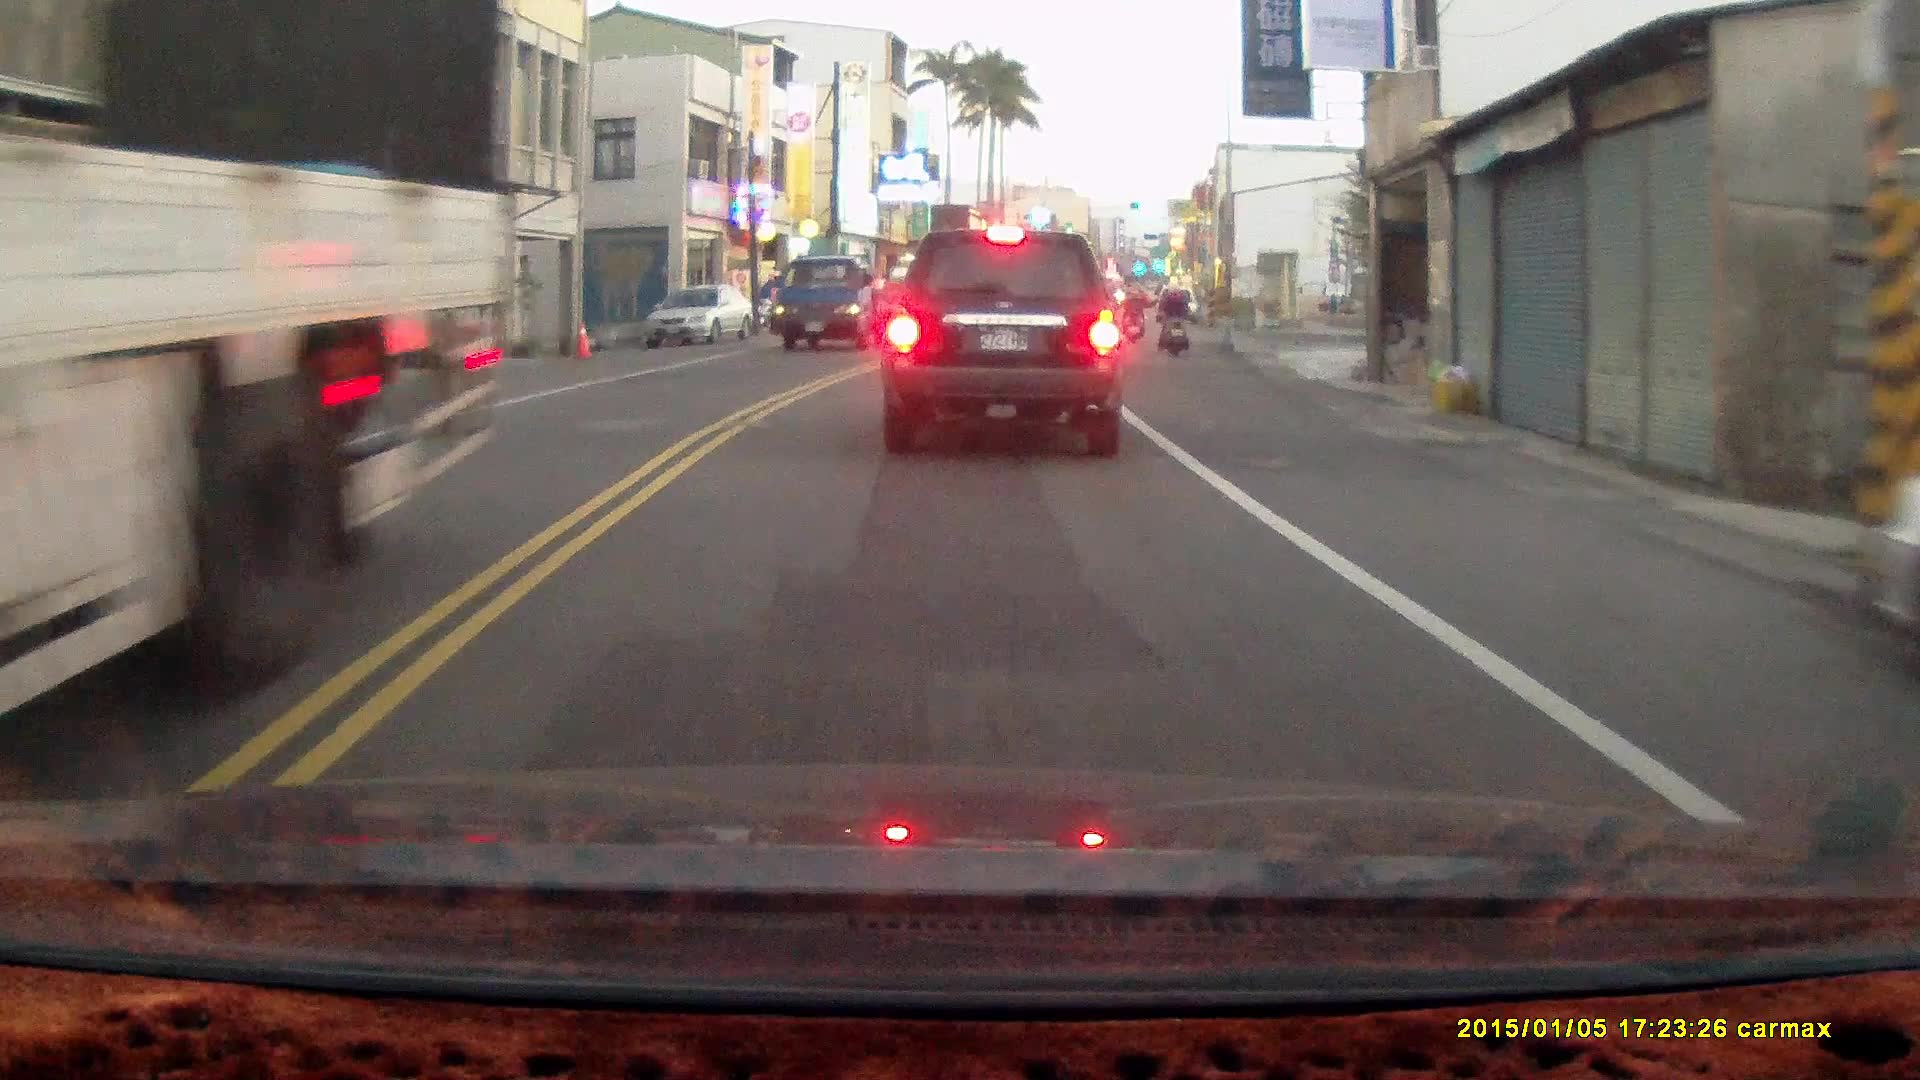rider: (1156, 278, 1187, 359), (1118, 280, 1145, 345)
vehicle: (0, 0, 522, 791), (880, 227, 1128, 459), (769, 256, 894, 357), (1851, 469, 1920, 640), (643, 285, 756, 349)
